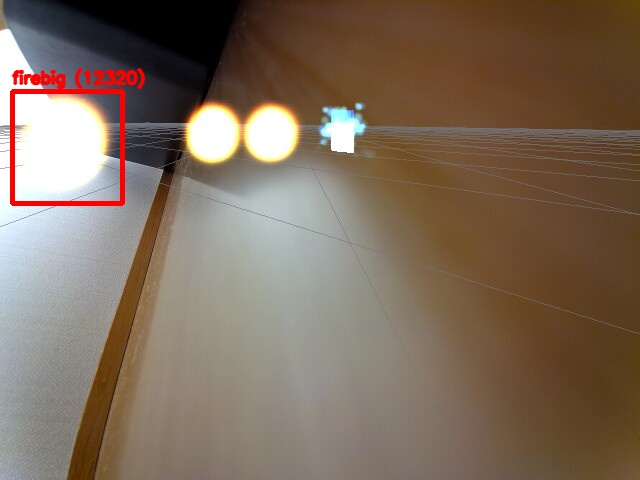firebig: (12, 91, 122, 203)
